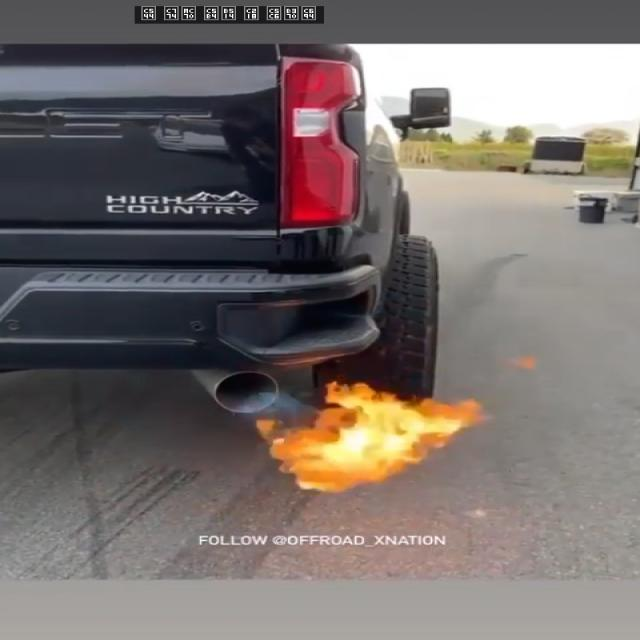fire: (255, 380, 482, 494)
